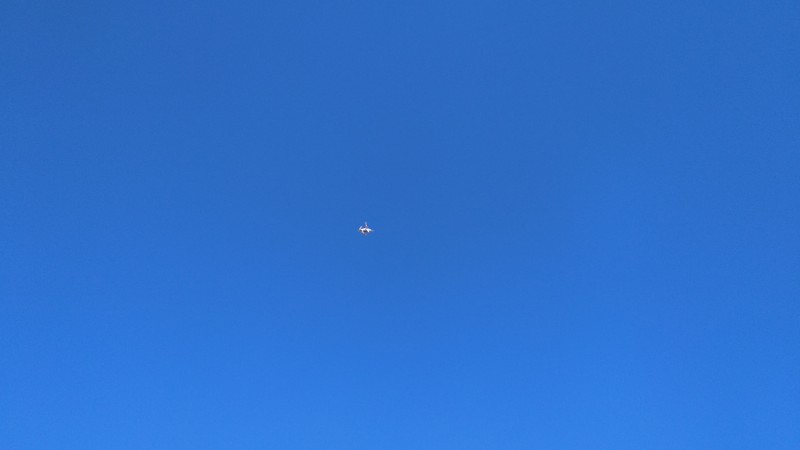drone: (359, 223, 375, 237)
